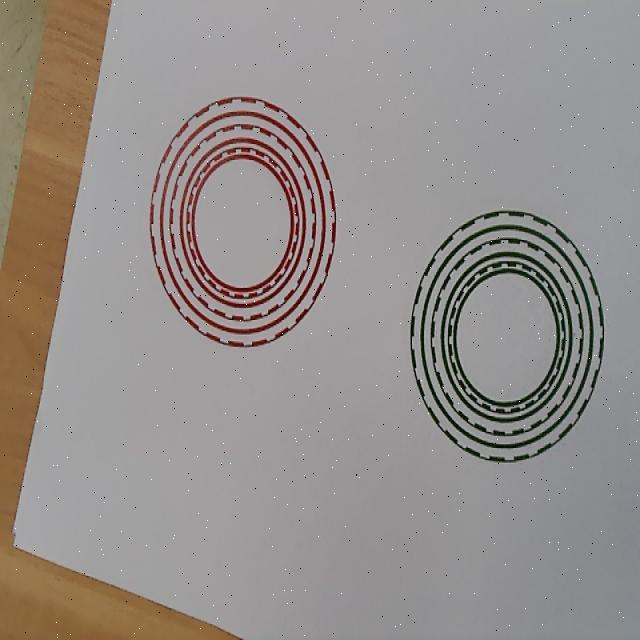g: (410, 209, 604, 464)
red-green-blue: (149, 96, 335, 348)
